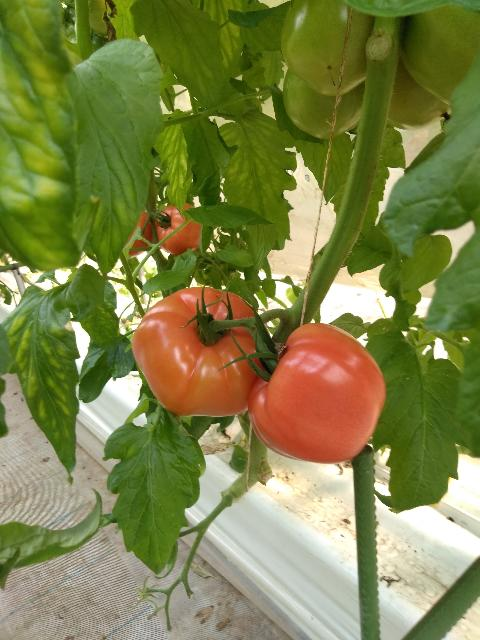b_fully_ripened: (247, 322, 385, 464), (131, 287, 277, 417), (155, 204, 201, 257)
b_green: (280, 0, 376, 97), (399, 3, 480, 106), (281, 69, 365, 140), (387, 56, 452, 131)
